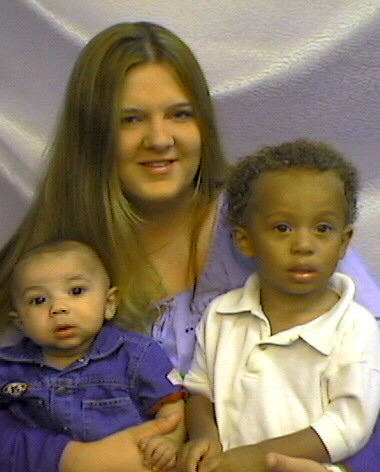without_mask: (230, 175, 357, 300), (101, 58, 208, 203), (7, 250, 120, 356)
